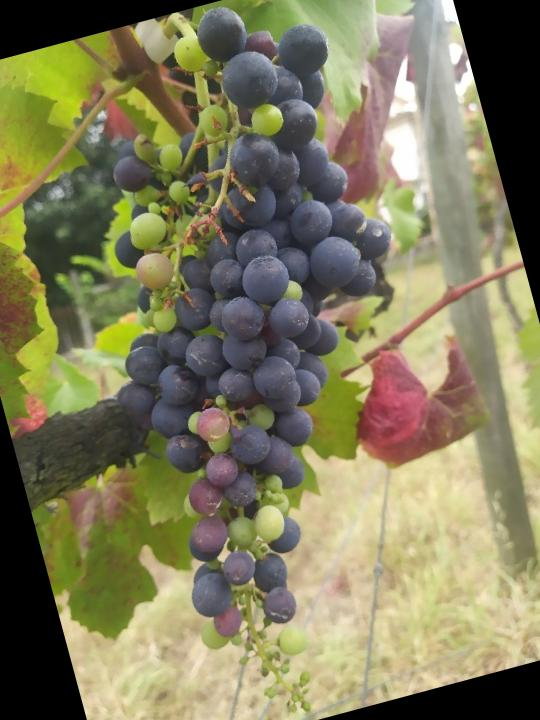grape: (24, 0, 509, 720)
